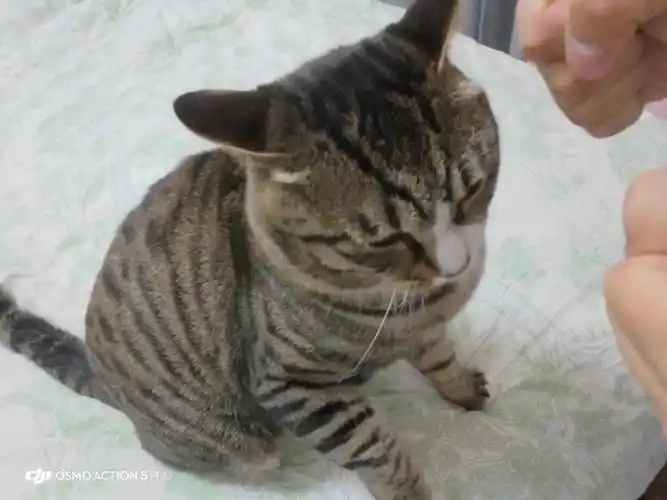狸花猫: (174, 0, 498, 262)
